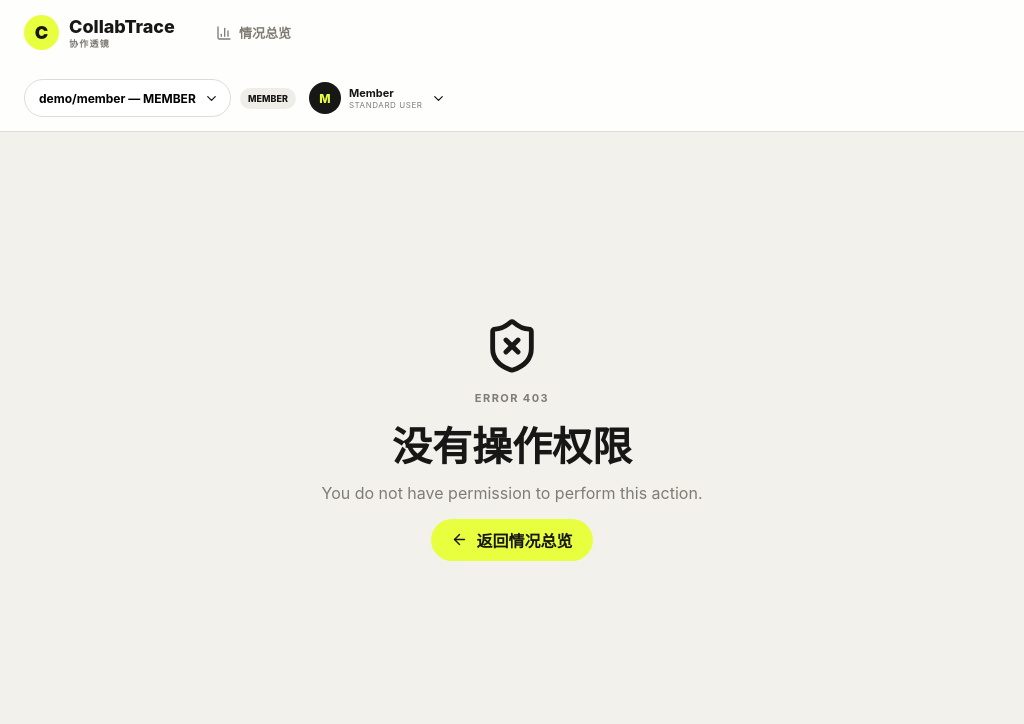
Test: repository-scoped RBAC and navigation › uses situation-overview copy on 403 and keeps the dashboard destination
Expected: the heading "没有操作权限" is shown, 392,415 -> 632,473
Click the link "返回情况总览".
click(512, 540)  # box 432,519 -> 592,561
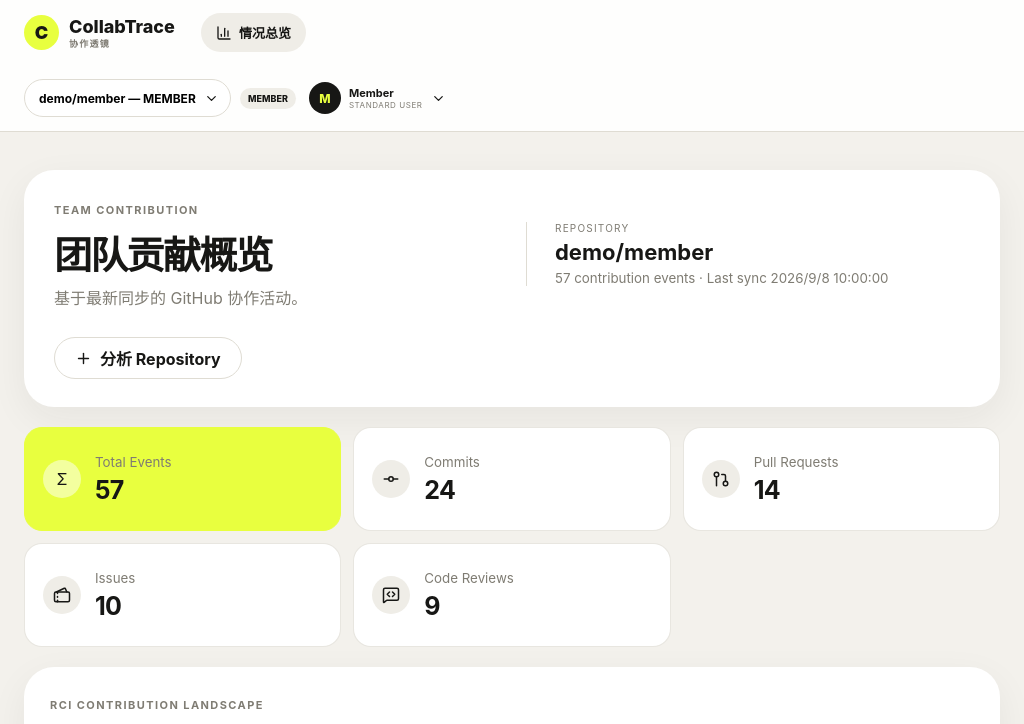
Expected: the heading "团队贡献概览" is shown, 54,232 -> 272,278
